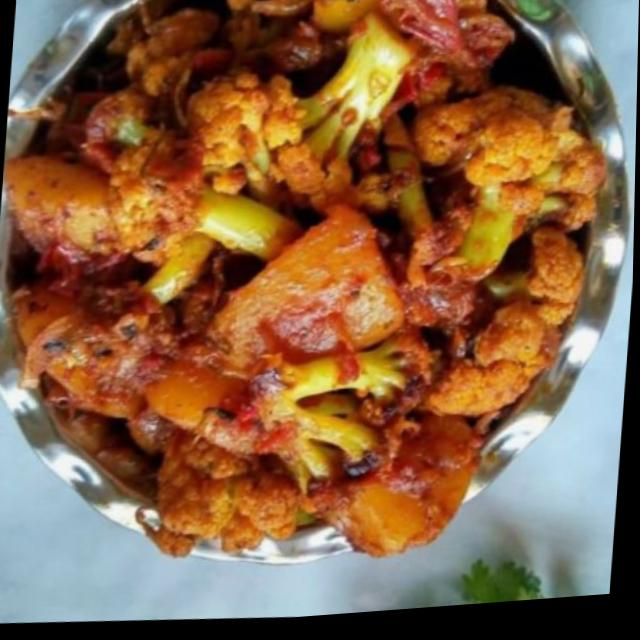VEGGIES: (4, 0, 596, 560)
